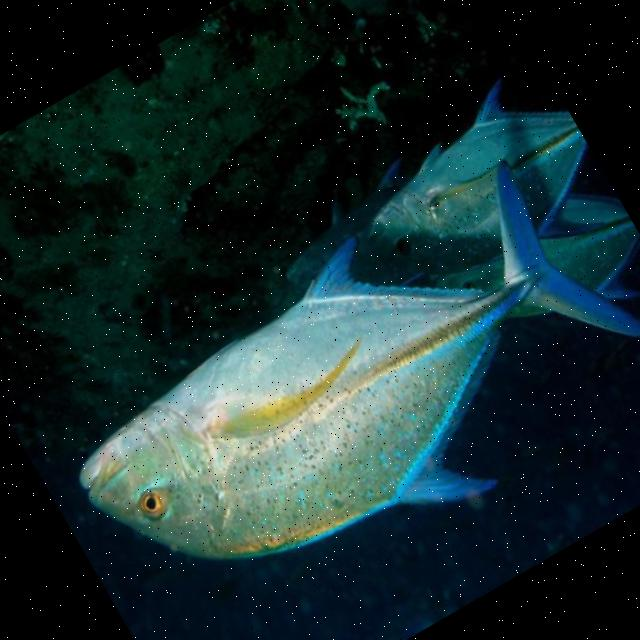ikan: (36, 118, 640, 640)
